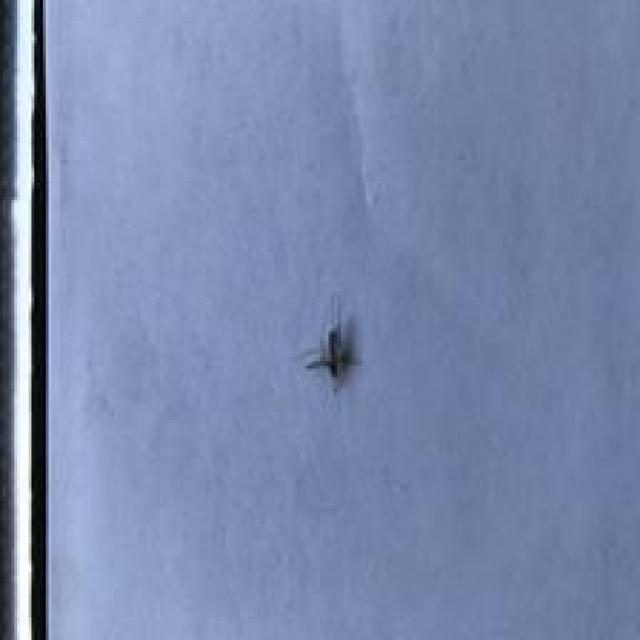Culex: (303, 294, 360, 394)
